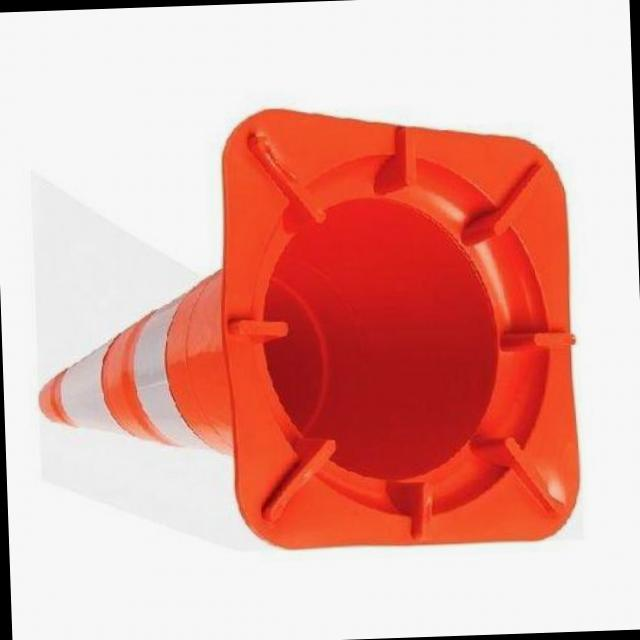cone: (18, 93, 596, 566)
